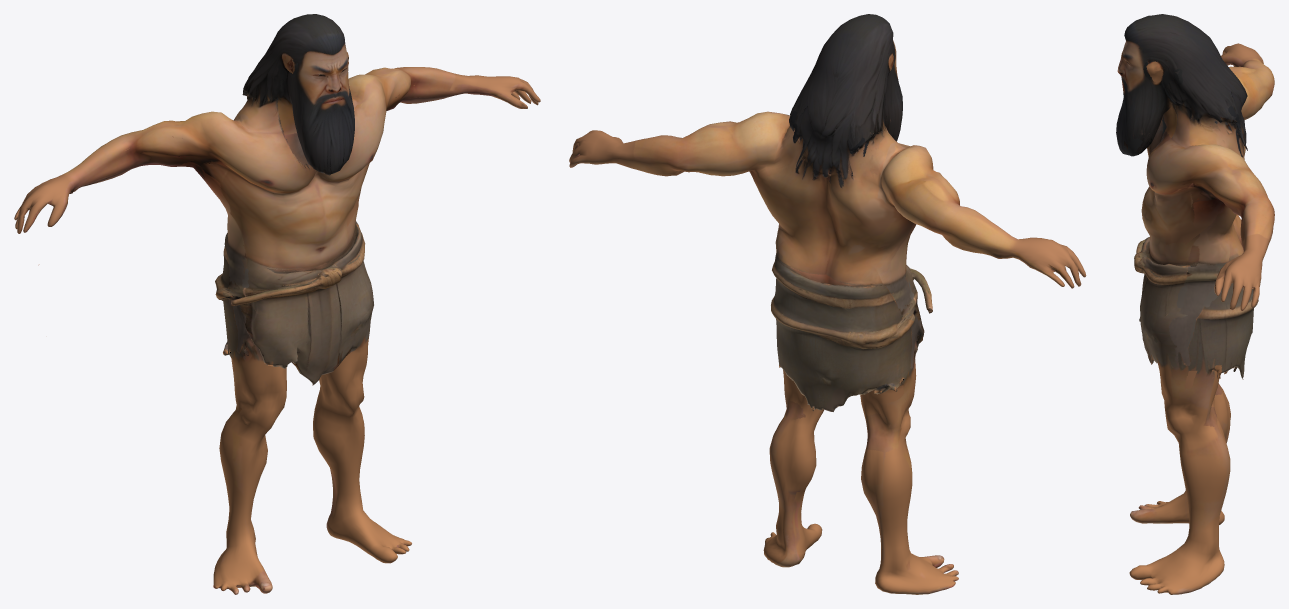
The model's file is Adult_Man_Paleolithic2.fbx.
3 renders of one model, left to right at view 1: azimuth 30°, elevation 25°; view 2: azimuth 150°, elevation 25°; view 3: azimuth 270°, elevation 25°, orthographic. The views are drawn at different scales.
Visible parts, largest first — view 1: Adult_Primitive_man; view 2: Adult_Primitive_man; view 3: Adult_Primitive_man.
Boxes of the visible parts, x1,y1,x2,y2 form: Adult_Primitive_man: (14,14,540,594); Adult_Primitive_man: (569,14,1086,594); Adult_Primitive_man: (1116,14,1274,594).
Size of the model in its own units: 169 by 172 by 46.18.
1 material, 1 textured.
